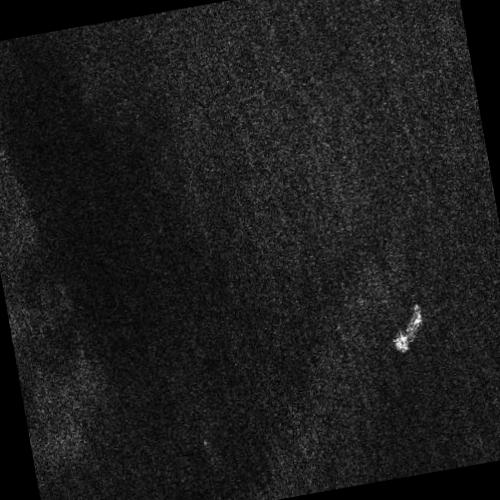ship: (393, 304, 422, 353)
